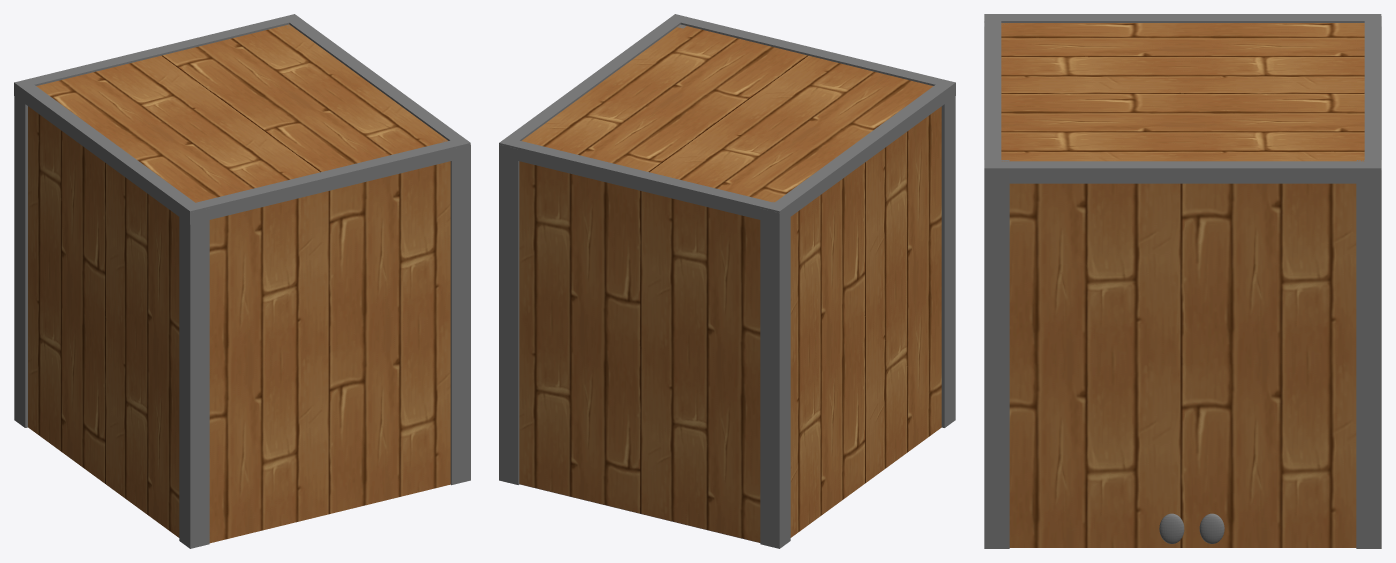
File: cupboard_top.obj
3 renders of one model, left to right at view 1: azimuth 30°, elevation 25°; view 2: azimuth 150°, elevation 25°; view 3: azimuth 270°, elevation 25°, orthographic. The views are drawn at different scales.
Parts seen in each view (by area): view 1: Cube.001, Cube.002_Cube.006; view 2: Cube.001, Cube.002_Cube.006; view 3: Cube.001, Cube.002_Cube.006.
Boxes of the visible parts, x1=… form: Cube.001: x1=14, y1=24, x2=470, y2=548; Cube.002_Cube.006: x1=14, y1=14, x2=470, y2=224; Cube.001: x1=499, y1=24, x2=955, y2=548; Cube.002_Cube.006: x1=499, y1=14, x2=955, y2=224; Cube.001: x1=984, y1=16, x2=1381, y2=548; Cube.002_Cube.006: x1=984, y1=14, x2=1381, y2=543.
Bounding box in the file's own units: 0.8855 × 1.01 × 0.9507.
